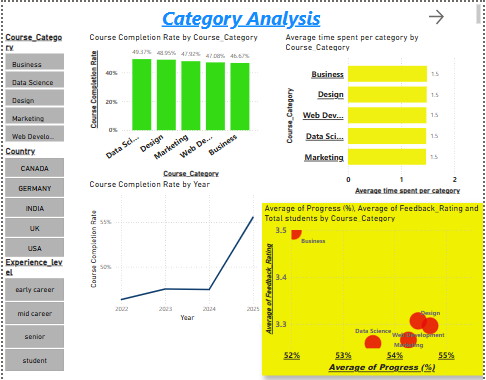

The dashboard page shown, as its layout file describes it:
{"tool":"powerbi","page":{"name":"Category Analysis","canvas":[960,757],"ordinal":1},"visuals":[{"type":"clusteredColumnChart","fields":{"Category":["online_course_student_data_1.Course_Category"],"Y":["online_course_student_data_1.Course Completion Rate"]},"box":[167.7,60,350.8,295.4],"z":0},{"type":"clusteredBarChart","fields":{"Category":["online_course_student_data_1.Course_Category"],"Y":["online_course_student_data_1.Average time spent per category"]},"box":[560.1,60,384.7,329.3],"z":1000},{"type":"scatterChart","fields":{"X":["Avg(online_course_student_data_1.Progress (%))"],"Y":["Avg(online_course_student_data_1.Feedback_Rating)"],"Category":["online_course_student_data_1.Course_Category"],"Size":["online_course_student_data_1.Total students"]},"box":[518.5,401.6,441.6,344.7],"z":2000},{"type":"textbox","box":[0,0,960,60],"z":3000},{"type":"advancedSlicerVisual","fields":{"Values":["online_course_student_data_1.Course_Category"]},"box":[0,60,127.7,227.7],"z":4000},{"type":"advancedSlicerVisual","fields":{"Values":["online_course_student_data_1.Country"]},"box":[0,287.7,127.7,227.7],"z":5000},{"type":"advancedSlicerVisual","fields":{"Values":["online_course_student_data_1.Experience_level"]},"box":[0,509.3,127.7,236.9],"z":6000},{"type":"lineChart","fields":{"Category":["online_course_student_data_1.Enrollment_Date.Variation.Date Hierarchy.Year","online_course_student_data_1.Enrollment_Date.Variation.Date Hierarchy.Quarter","online_course_student_data_1.Enrollment_Date.Variation.Date Hierarchy.Month","online_course_student_data_1.Enrollment_Date.Variation.Date Hierarchy.Day"],"Y":["online_course_student_data_1.Course Completion Rate"]},"box":[168.6,354.3,350,290],"z":7000},{"type":"actionButton","box":[845,10,100,40],"z":8000}]}

Visuals, with their boxes in screenshot pixels (x1, y1, x2, y2), scaled from the page's 960x757 canvas onto the 486x380 screenshot:
clusteredColumnChart - online_course_student_data_1.Course_Category x online_course_student_data_1.Course Completion Rate: BBox(85, 30, 262, 178)
clusteredBarChart - online_course_student_data_1.Course_Category x online_course_student_data_1.Average time spent per category: BBox(284, 30, 478, 195)
scatterChart - Avg(online_course_student_data_1.Progress (%)) x Avg(online_course_student_data_1.Feedback_Rating): BBox(262, 202, 485, 375)
textbox: BBox(0, 0, 485, 30)
advancedSlicerVisual - online_course_student_data_1.Course_Category: BBox(0, 30, 65, 144)
advancedSlicerVisual - online_course_student_data_1.Country: BBox(0, 144, 65, 259)
advancedSlicerVisual - online_course_student_data_1.Experience_level: BBox(0, 256, 65, 375)
lineChart - online_course_student_data_1.Enrollment_Date.Variation.Date Hierarchy.Year x online_course_student_data_1.Enrollment_Date.Variation.Date Hierarchy.Quarter: BBox(85, 178, 263, 323)
actionButton: BBox(428, 5, 478, 25)
